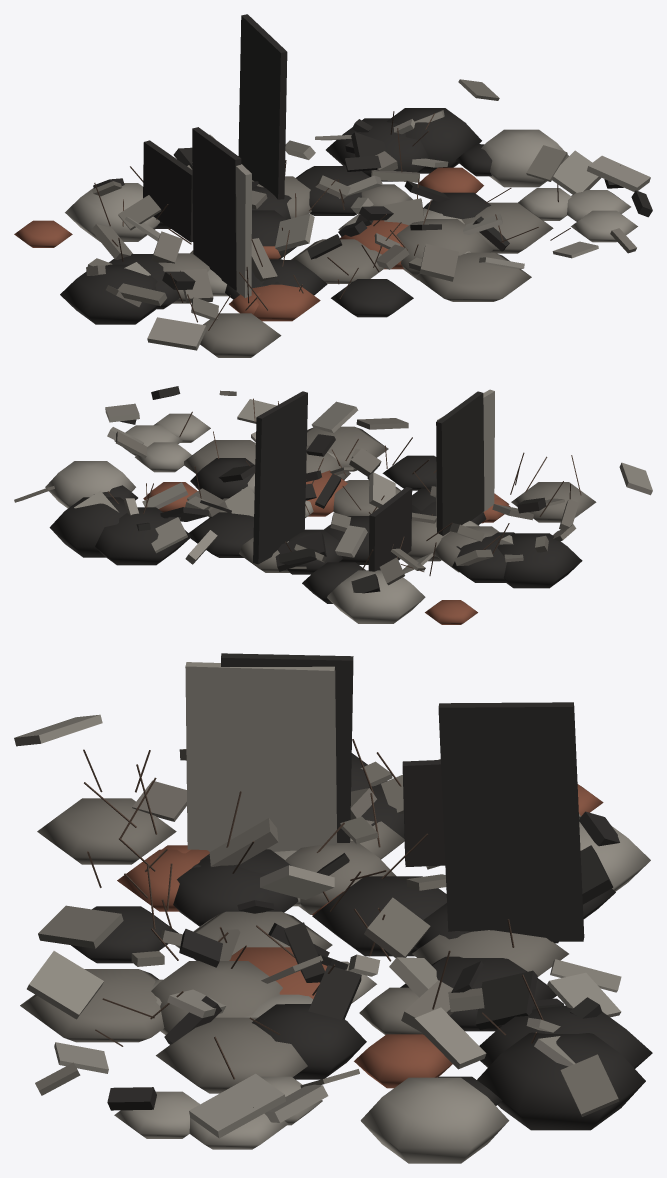
Rendered from rubble_3x2.glb.
The picture shows the model from 3 angles, top to bottom: view 1: azimuth 30°, elevation 25°; view 2: azimuth 150°, elevation 25°; view 3: azimuth 270°, elevation 25°; orthographic projection. The views are drawn at different scales.
Parts seen in each view (by area): view 1: rubble_3x2; view 2: rubble_3x2; view 3: rubble_3x2.
Part boxes in pixels (x1,y1,x2,y2): rubble_3x2: (14, 14, 652, 357); rubble_3x2: (14, 386, 652, 624); rubble_3x2: (14, 653, 652, 1163).
Bounding box in the file's own units: 31.2 × 10.36 × 20.97.
